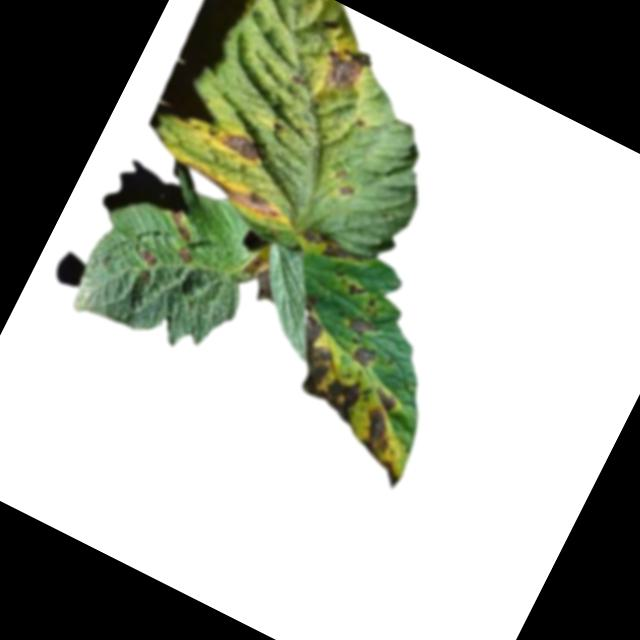Early_blight: (239, 299, 453, 493), (175, 157, 284, 227), (311, 35, 373, 101), (235, 252, 290, 312), (298, 224, 357, 271), (209, 119, 269, 165), (159, 207, 197, 243), (347, 340, 380, 372), (343, 310, 377, 340), (332, 177, 358, 202), (134, 246, 159, 270), (173, 245, 196, 268), (362, 296, 383, 318), (345, 280, 366, 301)
